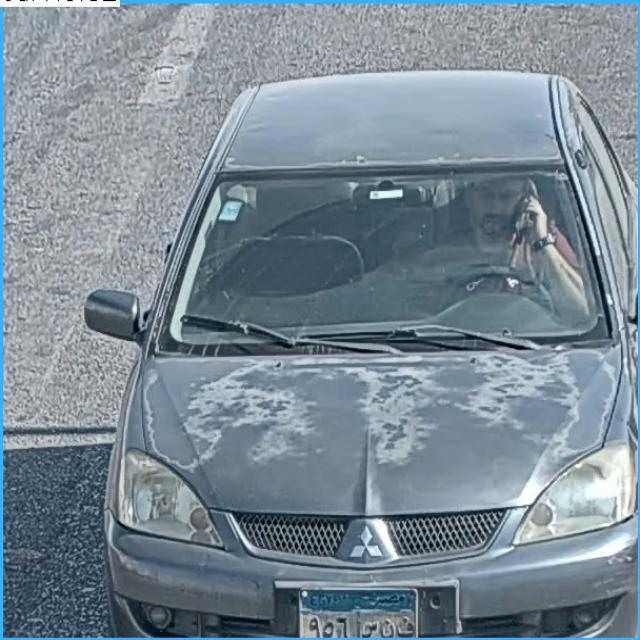windshield: (167, 164, 593, 330)
